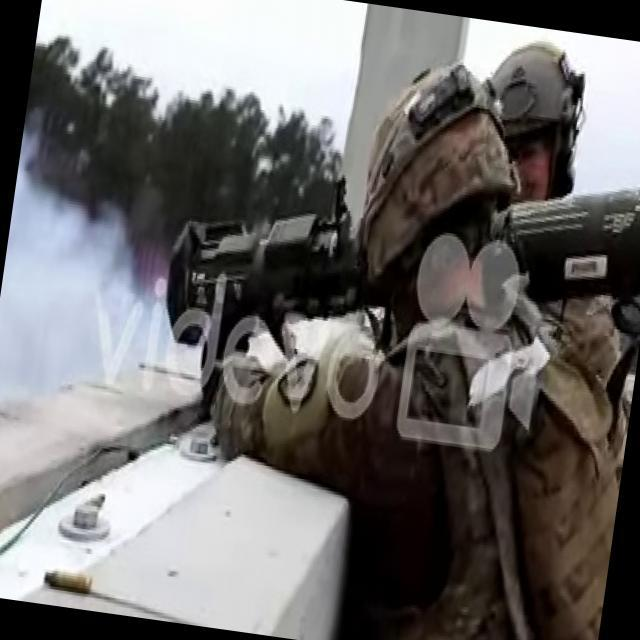rocket: (156, 122, 640, 416)
